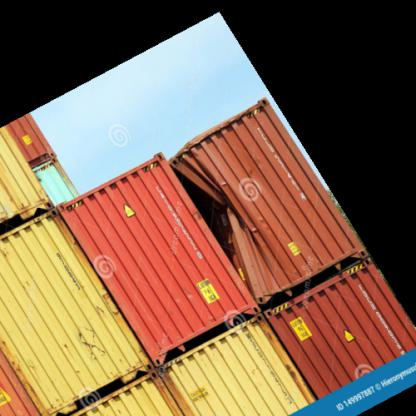Damage: (171, 153, 278, 285), (67, 315, 110, 358)
